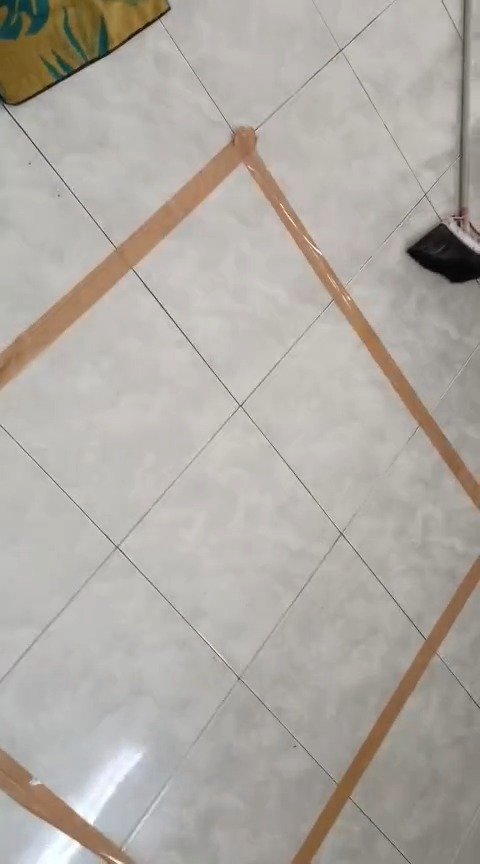floor marking: (0, 128, 479, 507), (297, 564, 478, 863), (0, 750, 134, 863)
